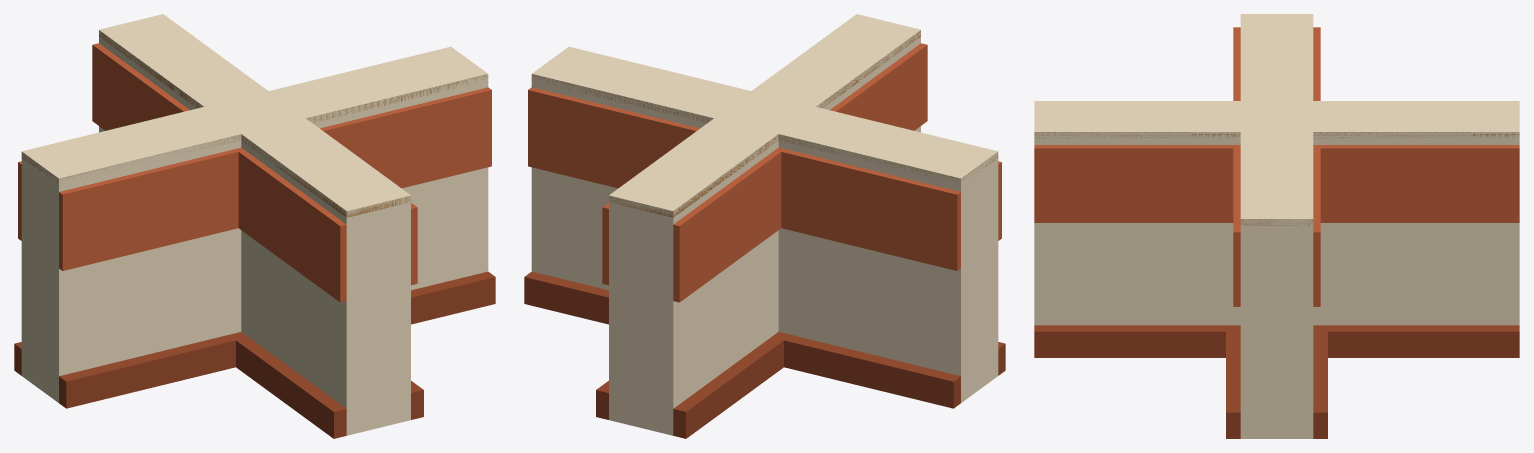
Rendered from partition-cross.glb.
3 renders of one model, left to right at view 1: azimuth 30°, elevation 25°; view 2: azimuth 150°, elevation 25°; view 3: azimuth 270°, elevation 25°, orthographic. The views are drawn at different scales.
Parts seen in each view (by area): view 1: partition-cross; view 2: partition-cross; view 3: partition-cross.
Boxes of the visible parts, left/top/right/bottom form: partition-cross: left=14, top=14, right=495, bottom=438; partition-cross: left=524, top=14, right=1005, bottom=438; partition-cross: left=1034, top=14, right=1519, bottom=438.
Size of the model in its own units: 1 by 0.5 by 1.
1 material, 1 textured.
